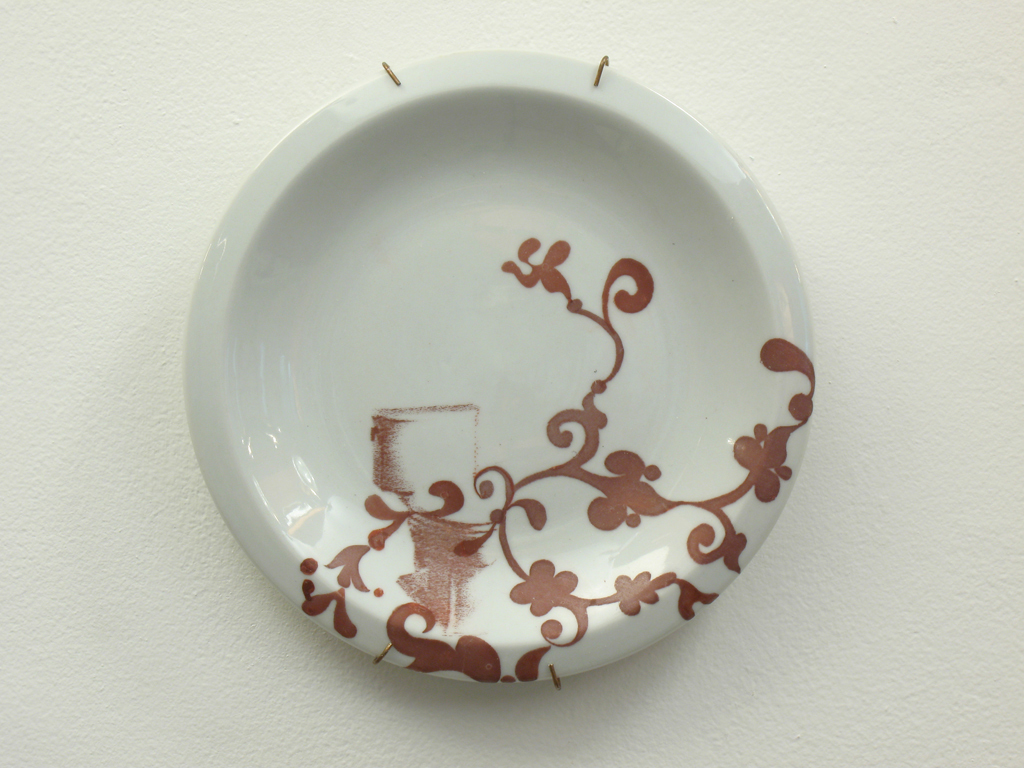plate: (183, 50, 816, 682)
